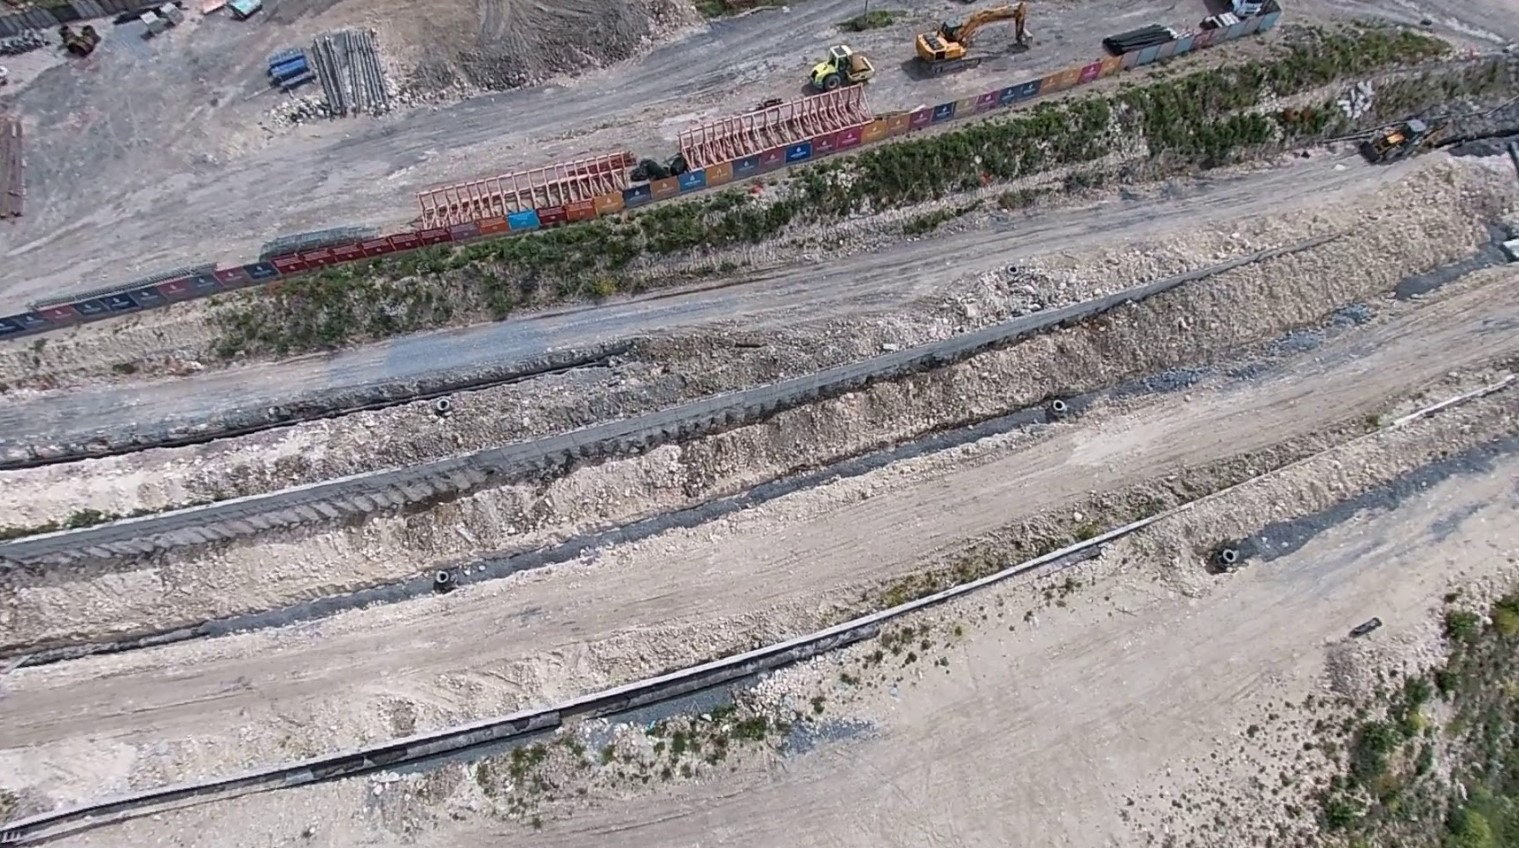ismakinasi: (913, 1, 1034, 67)
traktor: (1366, 120, 1428, 164), (814, 45, 874, 88)
